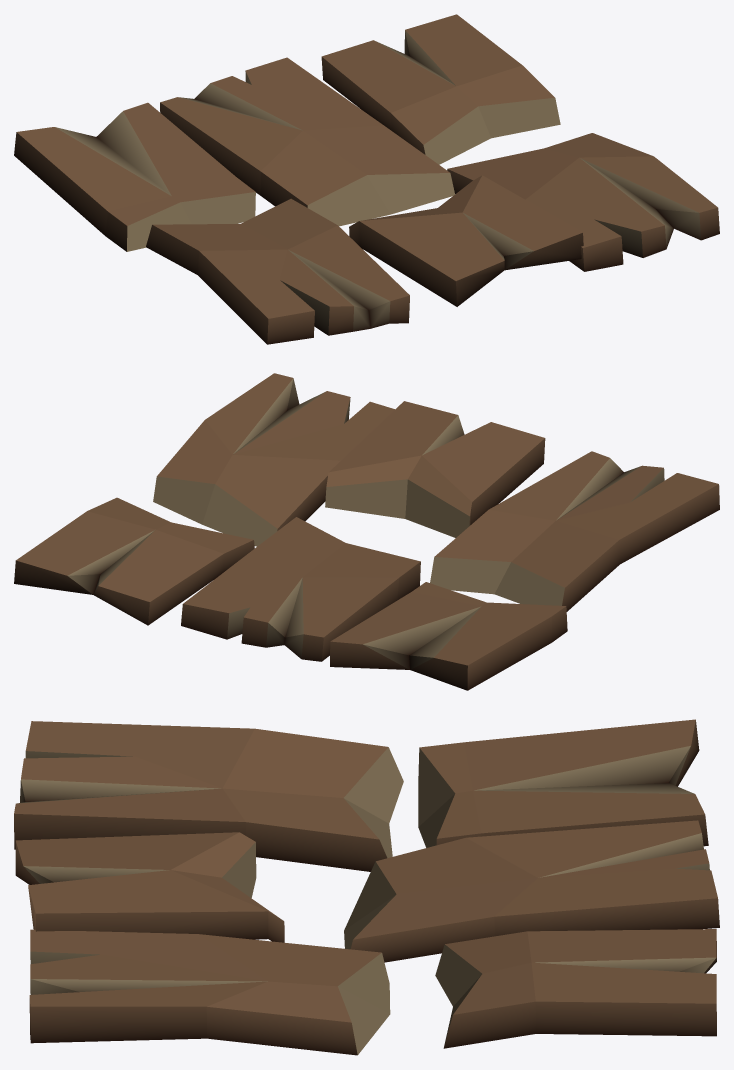
The model's file is ground3_broke.fbx.
3 views of the same model, one above another, from view 1: azimuth 30°, elevation 25°; view 2: azimuth 150°, elevation 25°; view 3: azimuth 270°, elevation 25° (orthographic). The views are drawn at different scales.
Visible parts, largest first — view 1: ground3_broke; view 2: ground3_broke; view 3: ground3_broke.
Part boxes in pixels (left/top/right/bottom): ground3_broke: left=14, top=14, right=719, bottom=344; ground3_broke: left=14, top=373, right=719, bottom=690; ground3_broke: left=14, top=719, right=719, bottom=1055.
Size of the model in its own units: 957 by 118 by 979.
